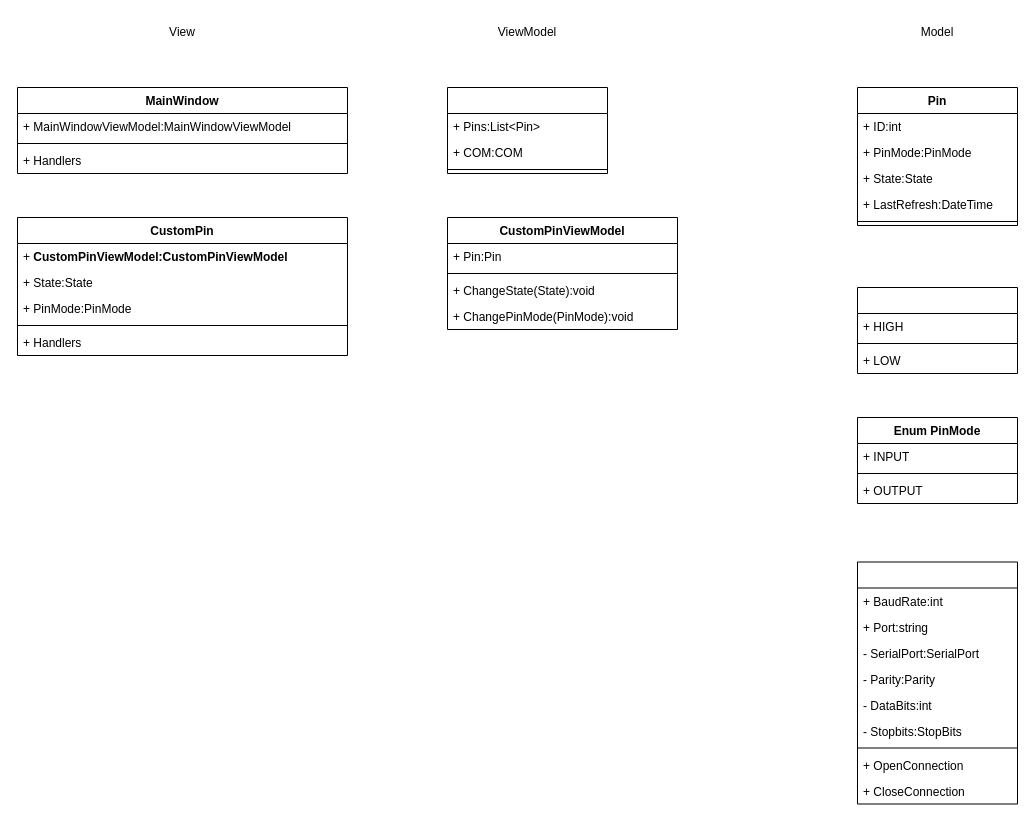
The diagram is 1035 pixels wide and 824 high, and some of its shapes have lost their labels. Each missing label, with the box of its shape:
COM: (856, 561, 1018, 804)
Enum State: (856, 286, 1018, 374)
MainWindowViewModel: (446, 86, 608, 174)
